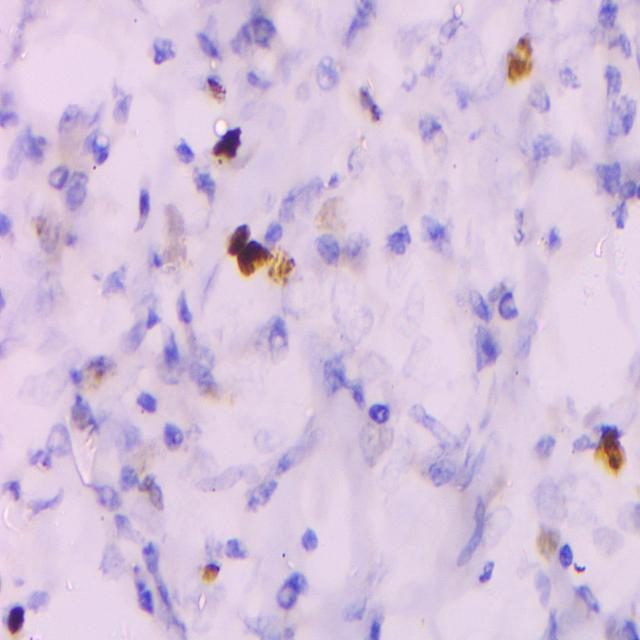Healthy cell: (323, 259, 374, 345), (24, 272, 72, 314), (533, 473, 570, 525), (279, 170, 328, 208), (144, 339, 187, 381), (340, 0, 382, 37), (14, 123, 48, 168), (602, 96, 635, 140), (596, 607, 640, 640), (316, 355, 349, 398), (247, 476, 285, 512), (253, 6, 283, 50), (422, 212, 451, 257), (248, 611, 293, 640), (152, 38, 181, 80), (495, 288, 525, 328), (99, 543, 126, 587), (89, 478, 123, 512), (313, 232, 346, 267), (476, 326, 500, 370), (66, 173, 98, 205), (83, 134, 115, 166), (266, 316, 291, 356), (280, 573, 304, 613), (252, 423, 285, 452), (599, 159, 621, 201), (150, 617, 190, 640), (388, 218, 412, 255), (317, 52, 339, 91), (533, 133, 559, 166), (602, 62, 626, 97), (46, 426, 77, 453), (226, 532, 252, 564), (156, 419, 182, 451), (422, 108, 446, 142), (187, 349, 211, 383), (29, 438, 53, 472), (367, 398, 392, 430), (468, 286, 488, 324), (193, 168, 221, 195), (526, 80, 550, 111), (533, 434, 556, 466), (560, 65, 588, 91), (299, 520, 318, 556), (62, 106, 85, 131), (599, 0, 620, 27), (139, 388, 160, 413), (174, 140, 194, 160), (264, 223, 282, 240)
cancer-cell-QiJm: (591, 420, 640, 483), (156, 209, 190, 276), (499, 30, 540, 81), (136, 469, 167, 526), (26, 213, 61, 258), (353, 82, 389, 125), (70, 390, 102, 436), (230, 242, 272, 277), (532, 523, 562, 570), (73, 356, 117, 387), (205, 69, 242, 105), (266, 248, 299, 288), (210, 122, 245, 159), (314, 200, 348, 232), (202, 383, 236, 413), (5, 599, 29, 640), (225, 219, 248, 253), (202, 556, 224, 588), (134, 445, 160, 470), (576, 555, 596, 574)
